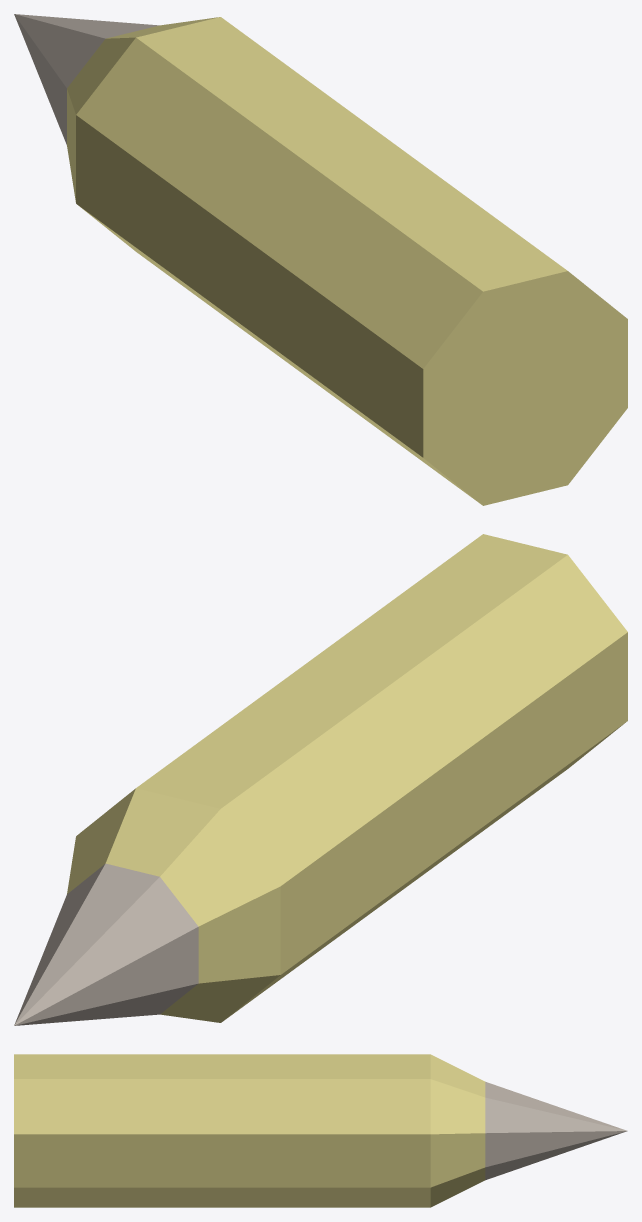
File: ce_ammo_rifle_ap_a.obj
3 renders of one model, top to bottom at view 1: azimuth 30°, elevation 25°; view 2: azimuth 150°, elevation 25°; view 3: azimuth 270°, elevation 25°, orthographic. The views are drawn at different scales.
Visible parts, largest first — view 1: ce_ammo_rifle_ap_a_0, ce_ammo_rifle_ap_a_2, ce_ammo_rifle_ap_a_1; view 2: ce_ammo_rifle_ap_a_0, ce_ammo_rifle_ap_a_1, ce_ammo_rifle_ap_a_2; view 3: ce_ammo_rifle_ap_a_0, ce_ammo_rifle_ap_a_2, ce_ammo_rifle_ap_a_1.
Boxes of the visible parts, x1,y1,x2,y2 form: ce_ammo_rifle_ap_a_0: (76,17,627,505); ce_ammo_rifle_ap_a_2: (14,14,159,144); ce_ammo_rifle_ap_a_1: (67,17,219,201); ce_ammo_rifle_ap_a_0: (136,534,627,1020); ce_ammo_rifle_ap_a_1: (67,788,280,1022); ce_ammo_rifle_ap_a_2: (14,863,198,1025); ce_ammo_rifle_ap_a_0: (14,1054,430,1207); ce_ammo_rifle_ap_a_2: (485,1081,627,1180); ce_ammo_rifle_ap_a_1: (430,1054,485,1207).
Bounding box in the file's own units: 0.1294 × 0.1294 × 0.56.
